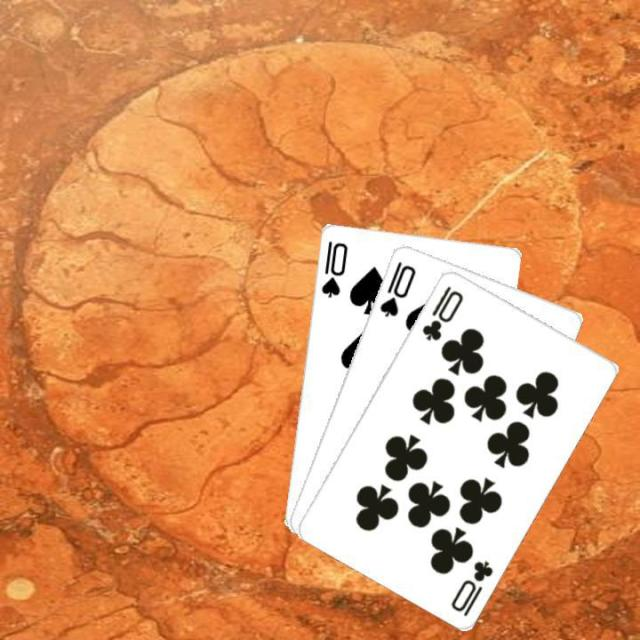10C: (446, 556, 495, 618), (417, 281, 465, 342)
10S: (375, 257, 418, 318), (316, 237, 349, 300)
